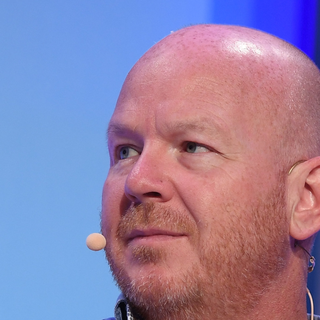eye: (173, 135, 216, 162), (107, 140, 144, 164)
